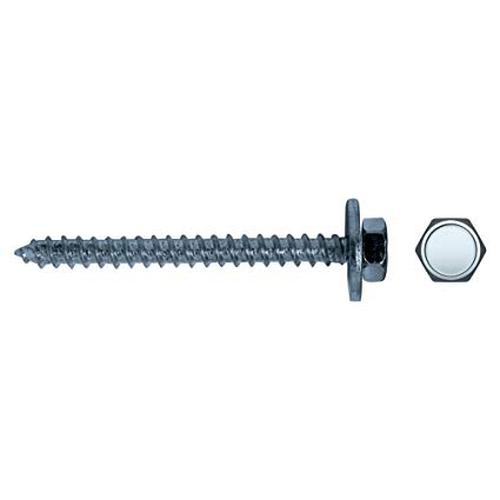Tornillo: (10, 196, 390, 302), (413, 215, 489, 285)
